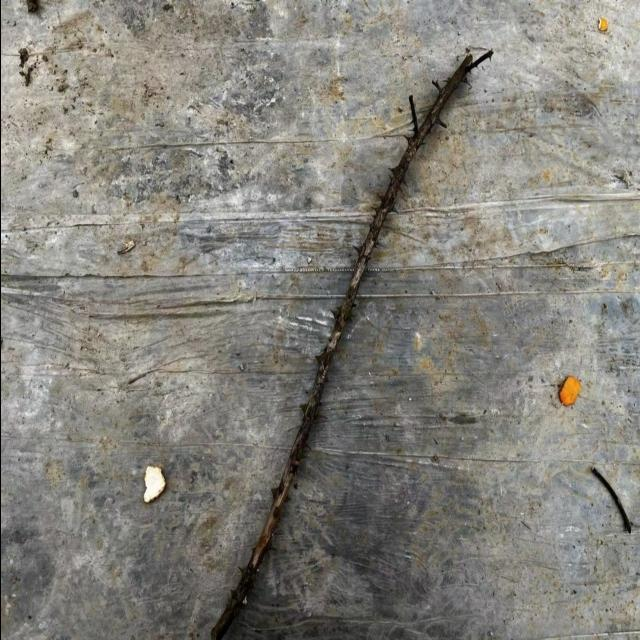branch: (211, 49, 490, 640)
